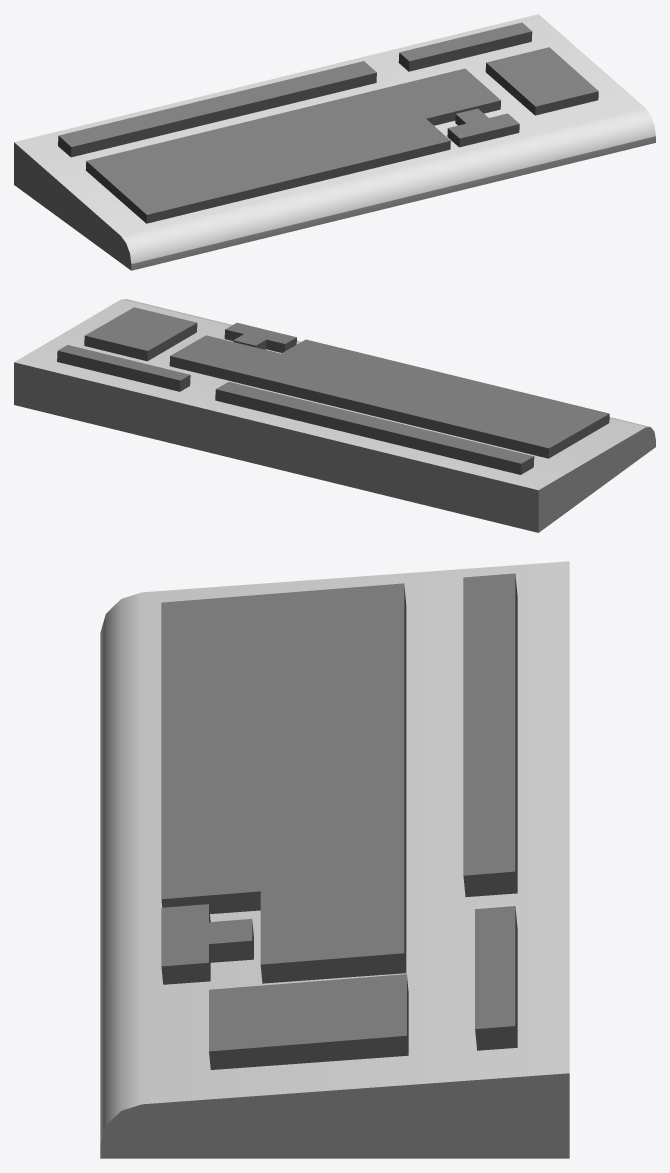
The model's file is Computer_Keyboard.fbx.
The picture shows the model from 3 angles, top to bottom: view 1: azimuth 30°, elevation 25°; view 2: azimuth 150°, elevation 25°; view 3: azimuth 270°, elevation 25°; orthographic projection. The views are drawn at different scales.
Visible parts, largest first — view 1: Computer_Keyboard; view 2: Computer_Keyboard; view 3: Computer_Keyboard.
Part boxes in pixels (<box>): Computer_Keyboard: <box>14,14,655,270</box>; Computer_Keyboard: <box>14,299,655,532</box>; Computer_Keyboard: <box>100,561,569,1158</box>.
Bounding box in the file's own units: 43.86 × 4.13 × 17.
